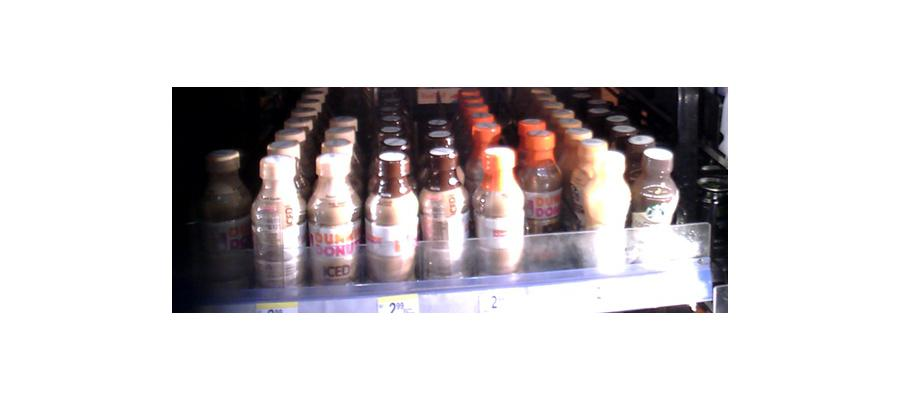bottle: (305, 131, 357, 293), (576, 135, 632, 271), (251, 145, 302, 293), (416, 138, 467, 282), (471, 140, 523, 278), (198, 145, 249, 284), (364, 150, 416, 285), (630, 141, 681, 266), (523, 124, 563, 237)
